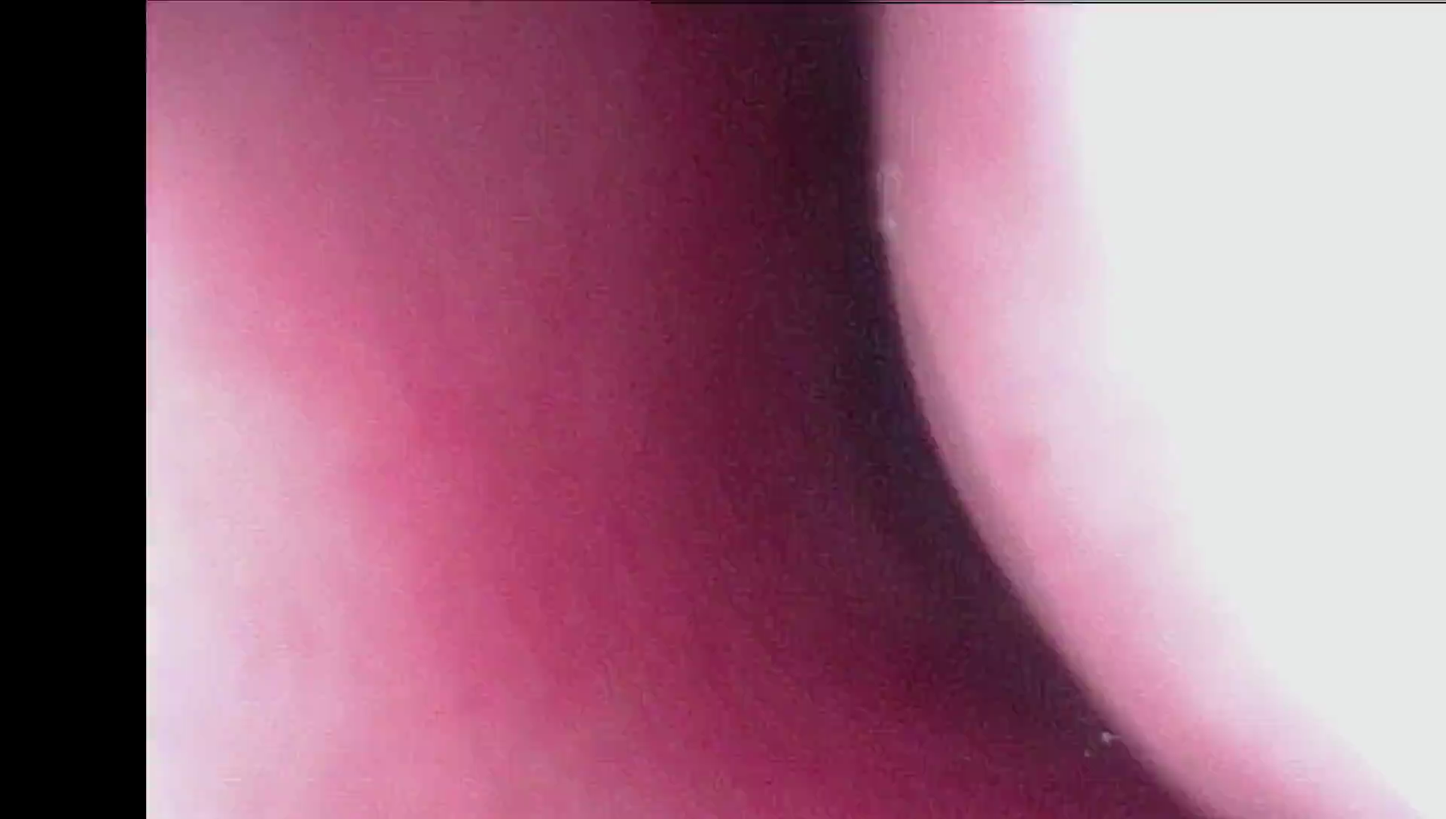close_wall: (986, 10, 1446, 819), (152, 205, 499, 819)
next: (803, 208, 995, 654)
